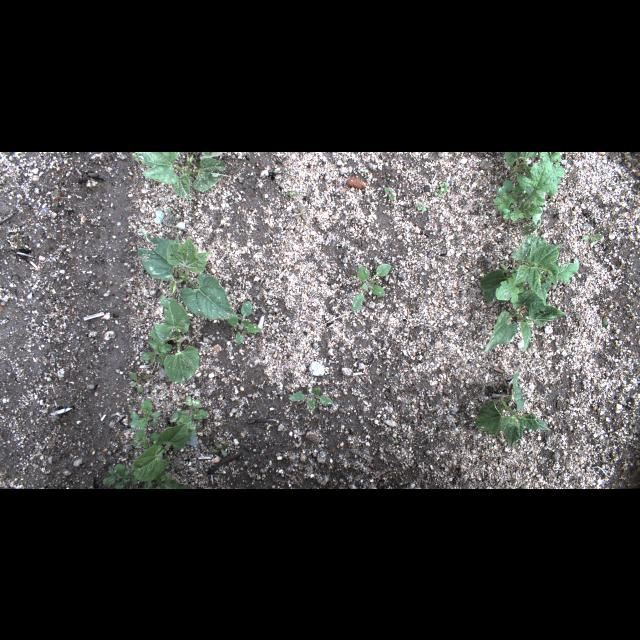crop: (478, 235, 580, 351), (139, 230, 237, 318), (475, 372, 551, 448), (143, 295, 199, 383), (494, 152, 564, 222), (133, 151, 227, 199), (132, 422, 188, 482)
weed: (104, 464, 190, 488), (353, 262, 393, 312), (225, 300, 262, 344), (128, 396, 160, 436), (170, 397, 208, 428), (286, 386, 332, 410), (130, 371, 150, 393), (52, 186, 68, 208), (212, 441, 228, 457), (436, 180, 450, 193), (600, 312, 610, 328), (293, 206, 305, 218), (386, 186, 394, 200), (576, 314, 582, 328)
